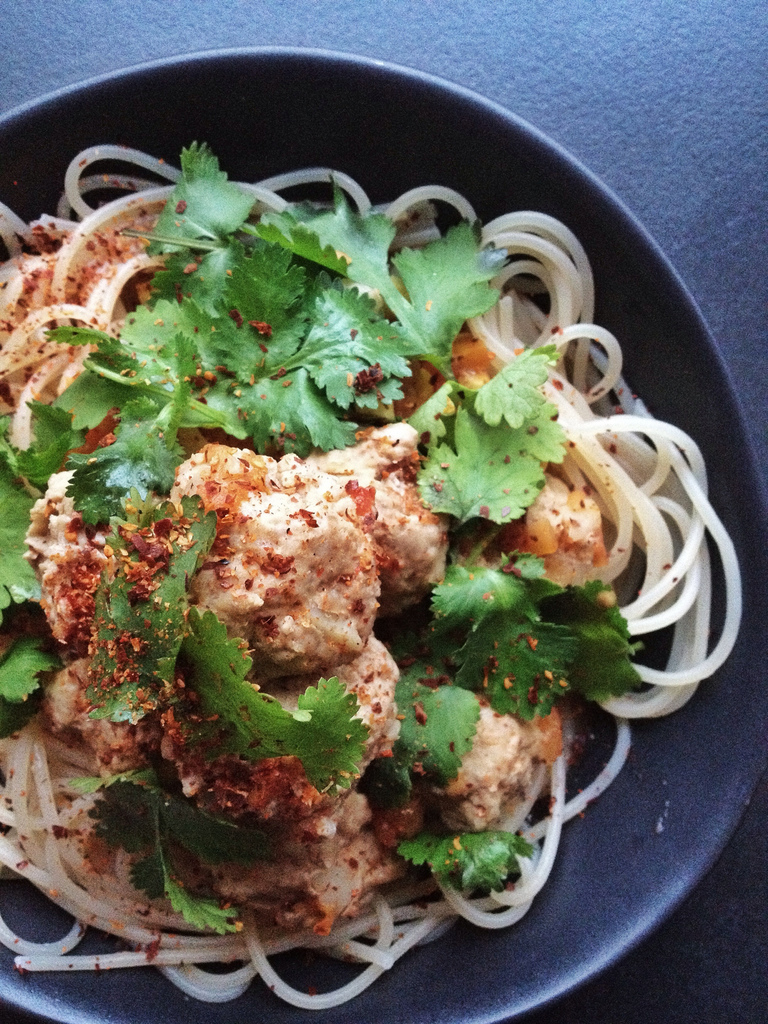plain spaghetti: (486, 214, 711, 686)
